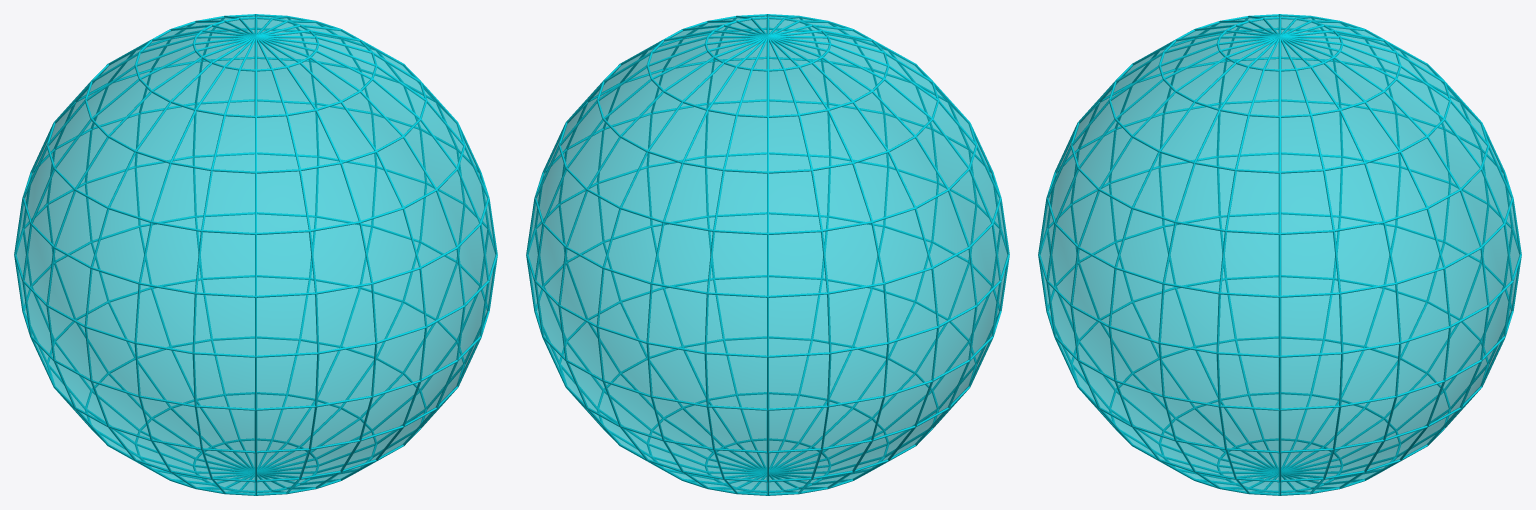
The model's file is whammyco_sphere_2.glb.
3 renders of one model, left to right at view 1: azimuth 30°, elevation 25°; view 2: azimuth 150°, elevation 25°; view 3: azimuth 270°, elevation 25°, orthographic.
Visible parts, largest first — view 1: Sphere, Sphere_1; view 2: Sphere, Sphere_1; view 3: Sphere, Sphere_1.
Part boxes in pixels (bbox=[...]): Sphere: bbox=[16, 15, 495, 494]; Sphere_1: bbox=[14, 14, 497, 495]; Sphere: bbox=[528, 15, 1007, 494]; Sphere_1: bbox=[526, 14, 1009, 495]; Sphere: bbox=[1040, 15, 1519, 493]; Sphere_1: bbox=[1038, 14, 1521, 495].
Bounding box in the file's own units: 201 × 201 × 201.
2 materials, 1 textured.
